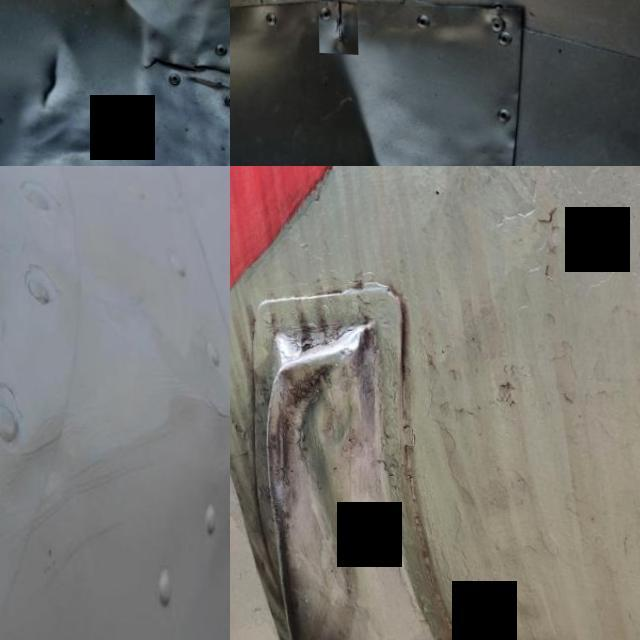Crack: (131, 31, 230, 102), (317, 0, 358, 51)
Dent: (231, 298, 398, 640), (230, 0, 407, 166), (0, 0, 166, 166), (0, 410, 98, 512), (139, 309, 230, 417)
